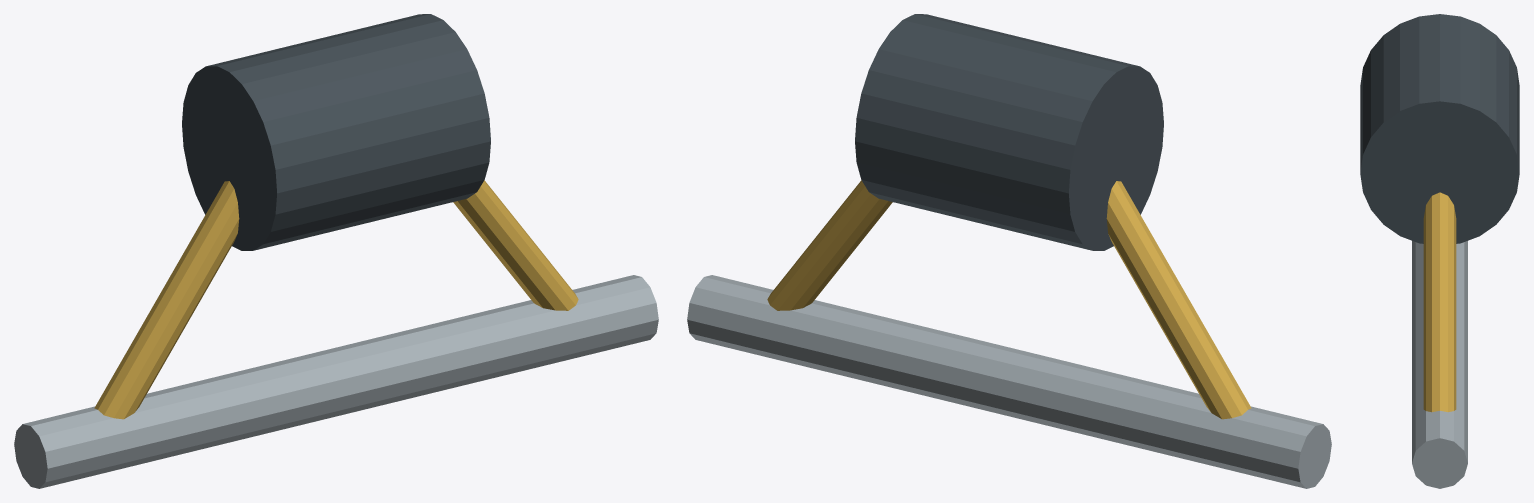
Rendered from grab_head.glb.
3 views of the same model, side by side, from view 1: azimuth 30°, elevation 25°; view 2: azimuth 150°, elevation 25°; view 3: azimuth 270°, elevation 25° (orthographic). The views are drawn at different scales.
Visible parts, largest first — view 1: grab_head; view 2: grab_head; view 3: grab_head.
Part boxes in pixels (box(x1,y1,x2,y2)): grab_head: box(14, 14, 658, 488); grab_head: box(687, 14, 1331, 488); grab_head: box(1360, 14, 1519, 488).
Size of the model in its own units: 2 by 1.15 by 0.54.
